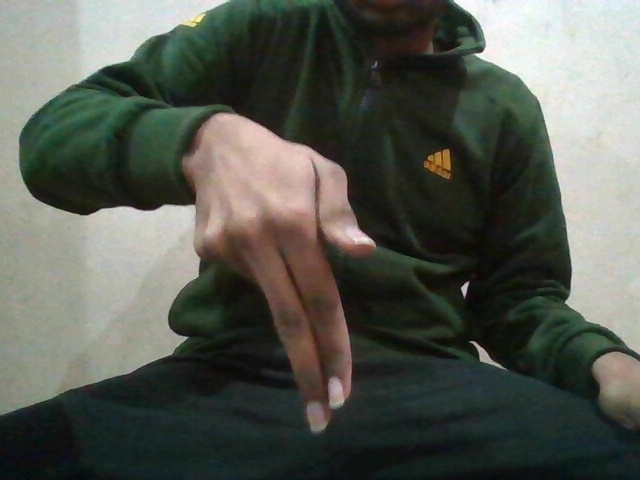Q: (194, 147, 387, 425)
